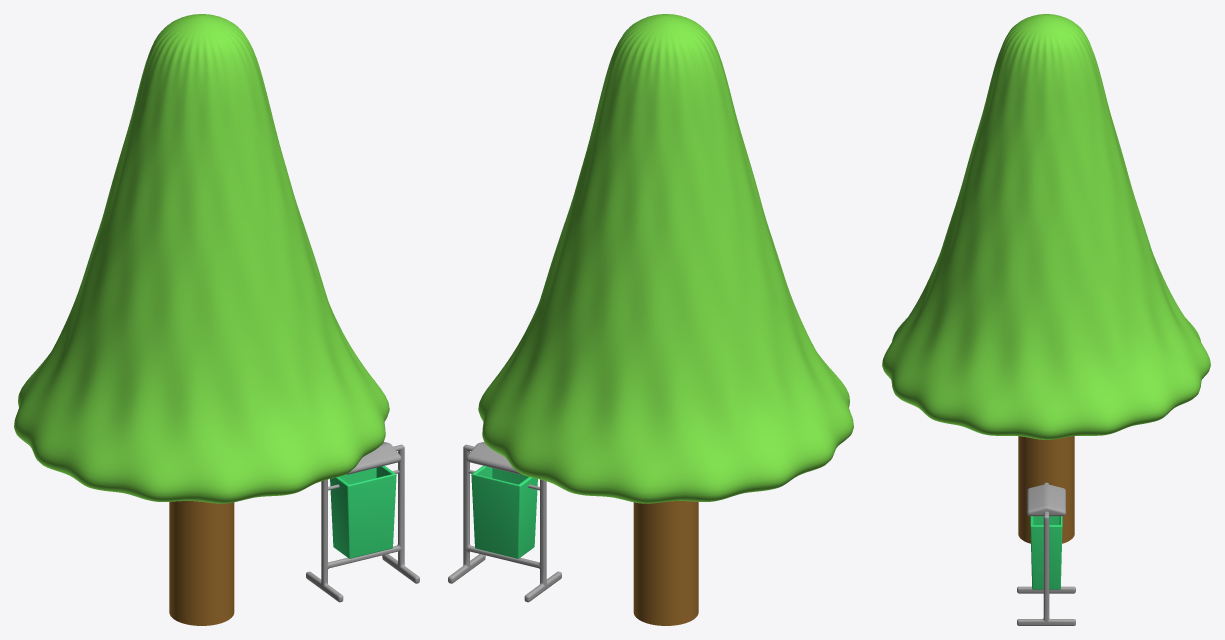
The picture shows the model from 3 angles, left to right: view 1: azimuth 30°, elevation 25°; view 2: azimuth 150°, elevation 25°; view 3: azimuth 270°, elevation 25°; orthographic projection. The views are drawn at different scales.
Visible parts, largest first — view 1: tree, trash; view 2: tree, trash; view 3: tree, trash.
Boxes of the visible parts, <box> form: tree: <box>14,14,389,625</box>; trash: <box>306,442,419,602</box>; tree: <box>478,14,853,625</box>; trash: <box>448,442,561,602</box>; tree: <box>882,14,1210,543</box>; trash: <box>1017,482,1075,625</box>.
Bounding box in the file's own units: 1295 × 2039 × 1159.
